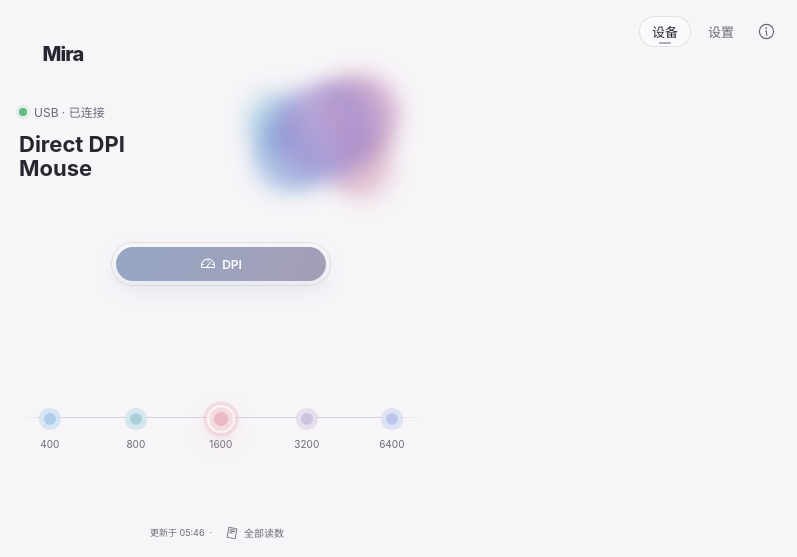
Test: real device snapshot mapping › creates Host-managed DPI stages for a device that only supports direct DPI writes
Expected: the heading "Direct DPI Mouse" is shown, [19,131,125,181]
Click the button named "切换到第 4 档" at (307, 419), box [295,407,319,431]
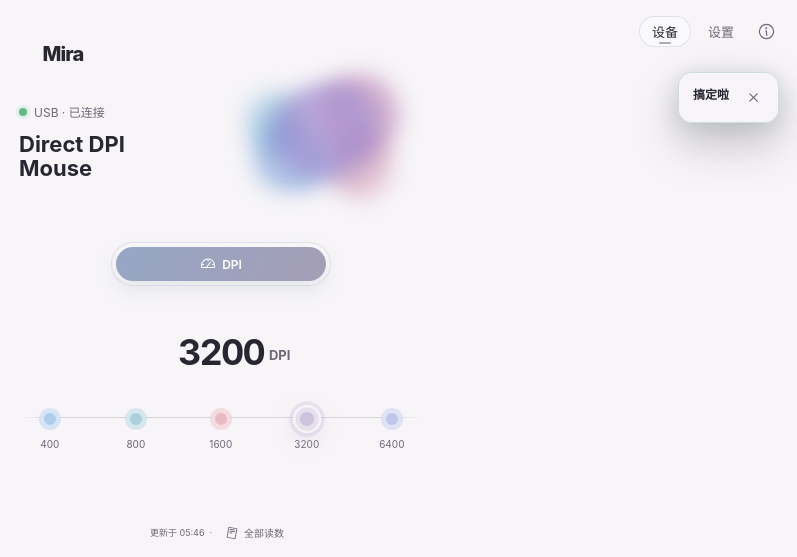
Expected: the button named "当前 DPI：3200，点击编辑" is shown, [165,331,277,375]
